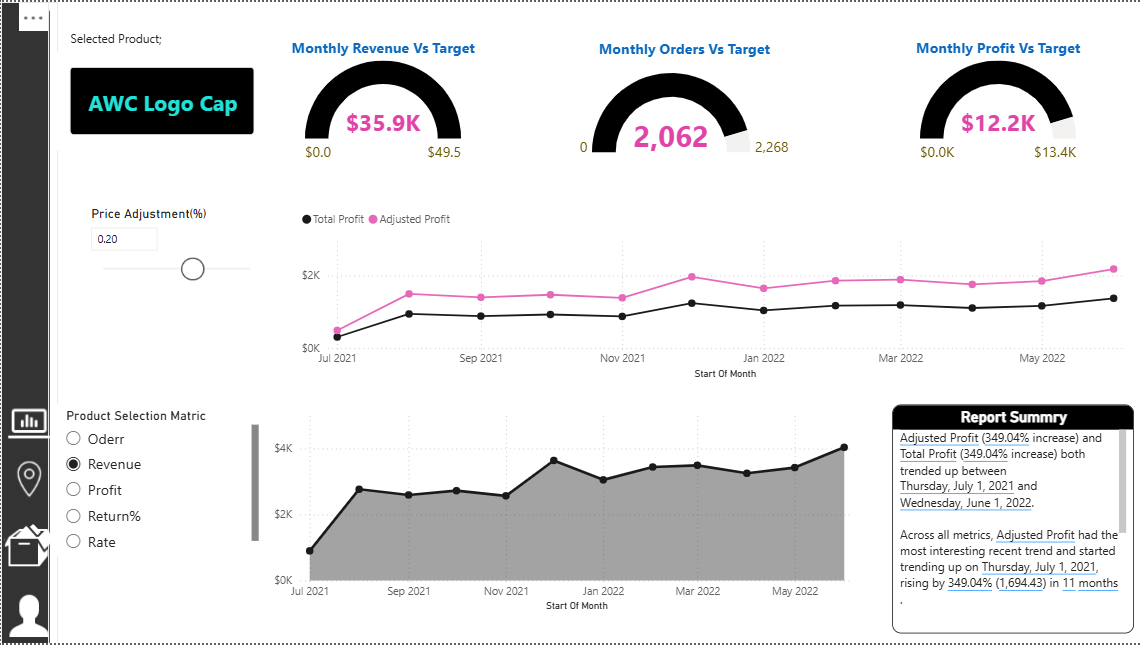

The dashboard page shown, as its layout file describes it:
{"tool":"powerbi","page":{"name":"Product Detail","canvas":[1280,720],"ordinal":2},"visuals":[{"type":"group","id":"g1","title":"Close Nav","box":[0,0,64.5,720.4],"z":0},{"type":"shape","box":[0,0,54.9,720.4],"z":0,"group":"g1"},{"type":"textbox","box":[72.9,26.6,122,29.4],"z":1000},{"type":"cardVisual","fields":{"Data":["Min(Product Lookup.ProductName)"]},"box":[60.3,56.1,241.2,110.8],"z":2000},{"type":"gauge","title":" Monthly  Orders Vs Target","fields":{"Y":["ALL Measures.Total Order"],"MaxValue":["ALL Measures.Target Order"]},"box":[639.4,41,254.6,150.8],"z":3000},{"type":"actionButton","box":[2.5,443.2,57.6,57.6],"z":3000,"group":"g1"},{"type":"gauge","title":" Monthly  Profit  Vs Target","fields":{"MaxValue":["ALL Measures.Target Profit"],"Y":["ALL Measures.Total Profit"]},"box":[991.7,38.6,254.6,150.8],"z":4000},{"type":"actionButton","box":[6.6,510.5,49.4,49.4],"z":4000,"group":"g1"},{"type":"gauge","title":" Monthly  Revenue Vs Target","fields":{"Y":["ALL Measures.Total Revenue"],"MaxValue":["ALL Measures.Target Revenue"]},"box":[301.6,39.8,254.6,150.8],"z":5000},{"type":"actionButton","box":[0,657.3,64.5,63.1],"z":5000,"group":"g1"},{"type":"slicer","fields":{"Values":["Price Adjustment(%).Price Adjustment(%)"]},"box":[88.1,224.4,213.5,150.8],"z":6000},{"type":"actionButton","box":[0,580.4,64.5,63.1],"z":6000,"group":"g1"},{"type":"lineChart","fields":{"Category":["Calendar Lookup.Start Of Month"],"Y":["ALL Measures.Total Profit","ALL Measures.Adjusted Profit"]},"box":[333,224.4,947.1,203.9],"z":7000},{"type":"areaChart","fields":{"Y":["ALL Measures.Total Revenue"],"Category":["Calendar Lookup.Start Of Month"]},"box":[301.6,450,675.6,238.9],"z":8000},{"type":"slicer","fields":{"Values":["Product Selection Matric.Product Selection Matric"]},"box":[60.3,450,234,171.3],"z":9000},{"type":"textbox","title":"Report Summry","box":[1000.1,451.2,271.4,257],"z":10000}]}

Visuals, with their boxes on the page's 1280x720 design canvas (x1, y1, x2, y2). These are canvas units, not pixel positions in the 1140x645 screenshot, which may show the page scaled, cropped or inside an application window:
"Close Nav" group: (left=0, top=0, right=64, bottom=720)
shape: (left=0, top=0, right=55, bottom=720)
textbox: (left=73, top=27, right=195, bottom=56)
cardVisual - Min(Product Lookup.ProductName): (left=60, top=56, right=302, bottom=167)
" Monthly  Orders Vs Target" gauge: (left=639, top=41, right=894, bottom=192)
actionButton: (left=2, top=443, right=60, bottom=501)
" Monthly  Profit  Vs Target" gauge: (left=992, top=39, right=1246, bottom=189)
actionButton: (left=7, top=510, right=56, bottom=560)
" Monthly  Revenue Vs Target" gauge: (left=302, top=40, right=556, bottom=191)
actionButton: (left=0, top=657, right=64, bottom=720)
slicer - Price Adjustment(%).Price Adjustment(%): (left=88, top=224, right=302, bottom=375)
actionButton: (left=0, top=580, right=64, bottom=644)
lineChart - Calendar Lookup.Start Of Month x ALL Measures.Total Profit: (left=333, top=224, right=1280, bottom=428)
areaChart - ALL Measures.Total Revenue x Calendar Lookup.Start Of Month: (left=302, top=450, right=977, bottom=689)
slicer - Product Selection Matric.Product Selection Matric: (left=60, top=450, right=294, bottom=621)
"Report Summry" textbox: (left=1000, top=451, right=1272, bottom=708)
